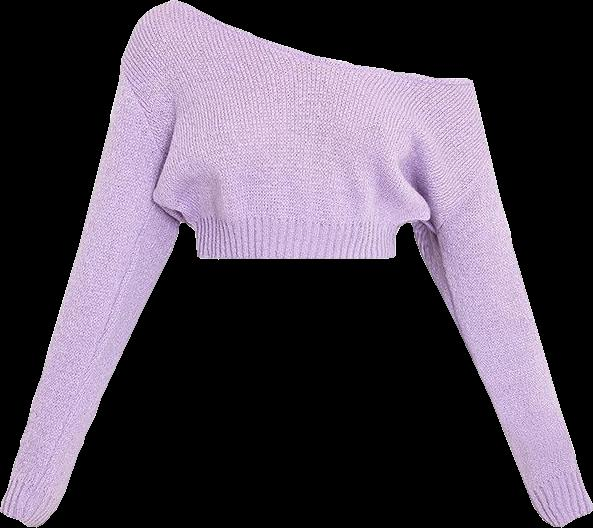Bodice: (120, 0, 494, 258)
Neckline: (182, 1, 471, 85)
Sleeve: (0, 64, 181, 526), (411, 174, 592, 526)
Sleeveline: (411, 172, 496, 233), (118, 65, 166, 162)
Waistline: (196, 251, 398, 262)
